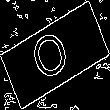O_SE: (31, 22, 79, 88)
